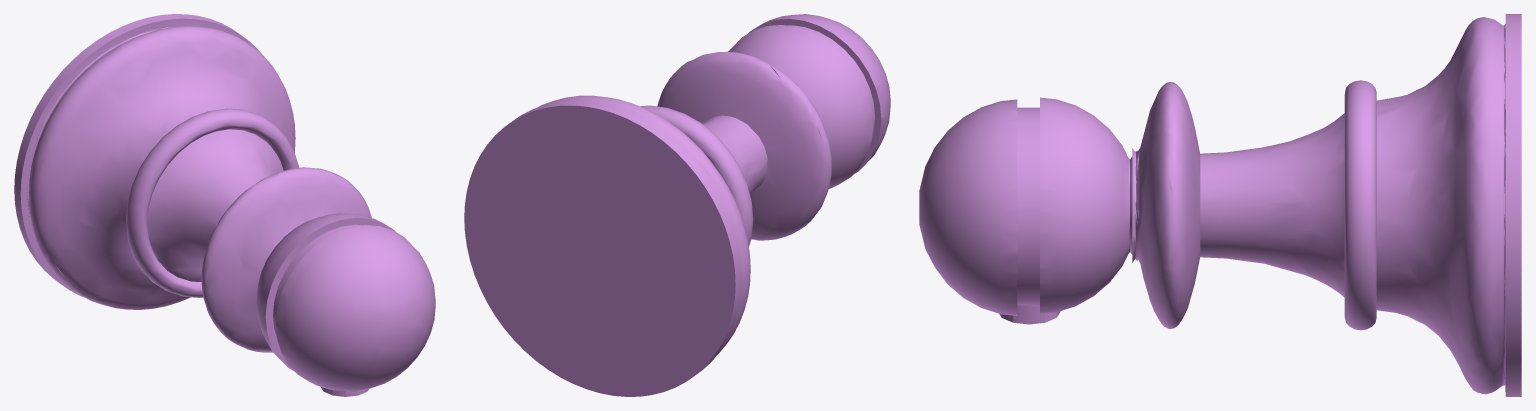
The model's file is Peon.obj.
3 renders of one model, left to right at view 1: azimuth 30°, elevation 25°; view 2: azimuth 150°, elevation 25°; view 3: azimuth 270°, elevation 25°, orthographic. The views are drawn at different scales.
Parts seen in each view (by area): view 1: Pokeball_Pawn_2; view 2: Pokeball_Pawn_2; view 3: Pokeball_Pawn_2.
Boxes of the visible parts, left/top/right/bottom form: Pokeball_Pawn_2: left=14, top=14, right=435, bottom=396; Pokeball_Pawn_2: left=464, top=14, right=890, bottom=396; Pokeball_Pawn_2: left=919, top=14, right=1521, bottom=396.
Size of the model in its own units: 25.38 by 25.38 by 39.87.
